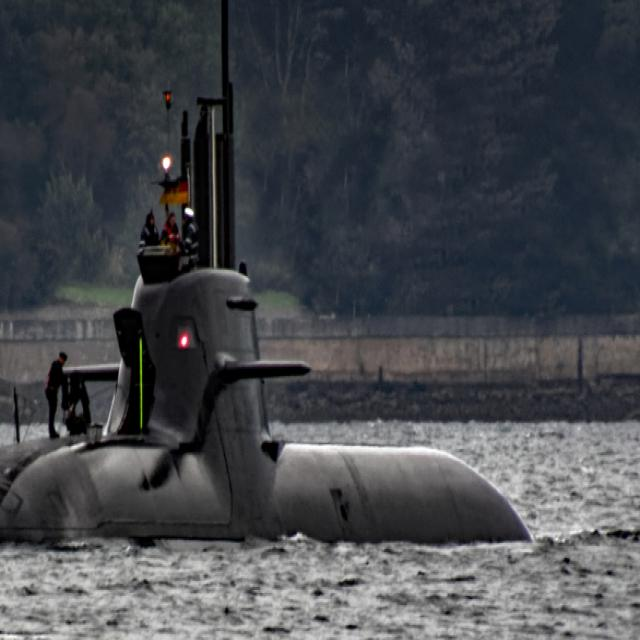submarine: (1, 1, 534, 558)
